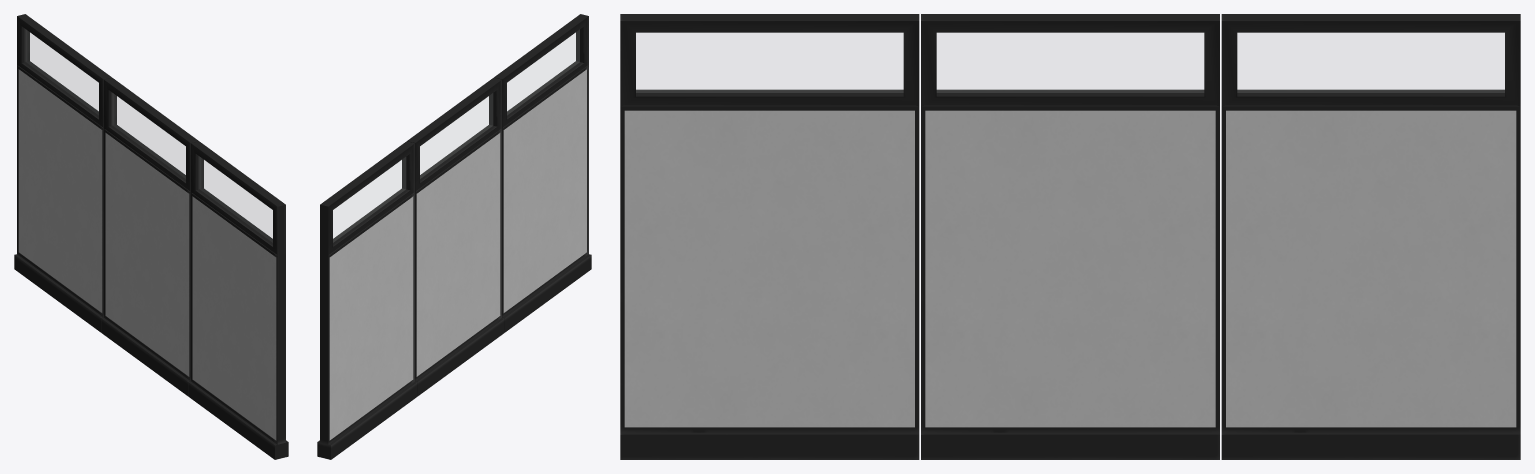
File: office_partition.glb
The picture shows the model from 3 angles, left to right: view 1: azimuth 30°, elevation 25°; view 2: azimuth 150°, elevation 25°; view 3: azimuth 270°, elevation 25°; orthographic projection. The views are drawn at different scales.
Visible parts, largest first — view 1: Object_197, Object_198; view 2: Object_197, Object_198; view 3: Object_197, Object_198.
Boxes of the visible parts, box(x1,y1,x2,y2) form: Object_197: box(14, 14, 288, 459); Object_198: box(26, 30, 272, 241); Object_197: box(317, 14, 591, 459); Object_198: box(333, 30, 579, 241); Object_197: box(620, 14, 1520, 459); Object_198: box(636, 33, 1504, 92).
Bounding box in the file's own units: 0.0798 × 1.41 × 2.64.
Materials: 2 (1 with a texture image).
